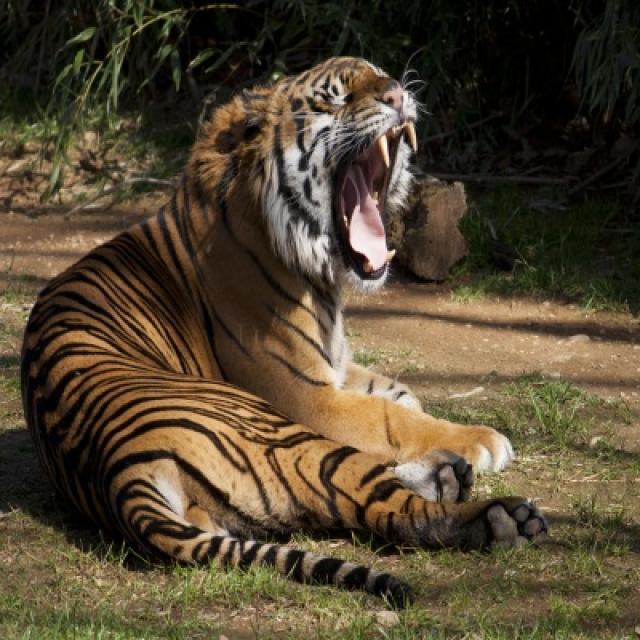Tiger: (19, 54, 546, 608)
